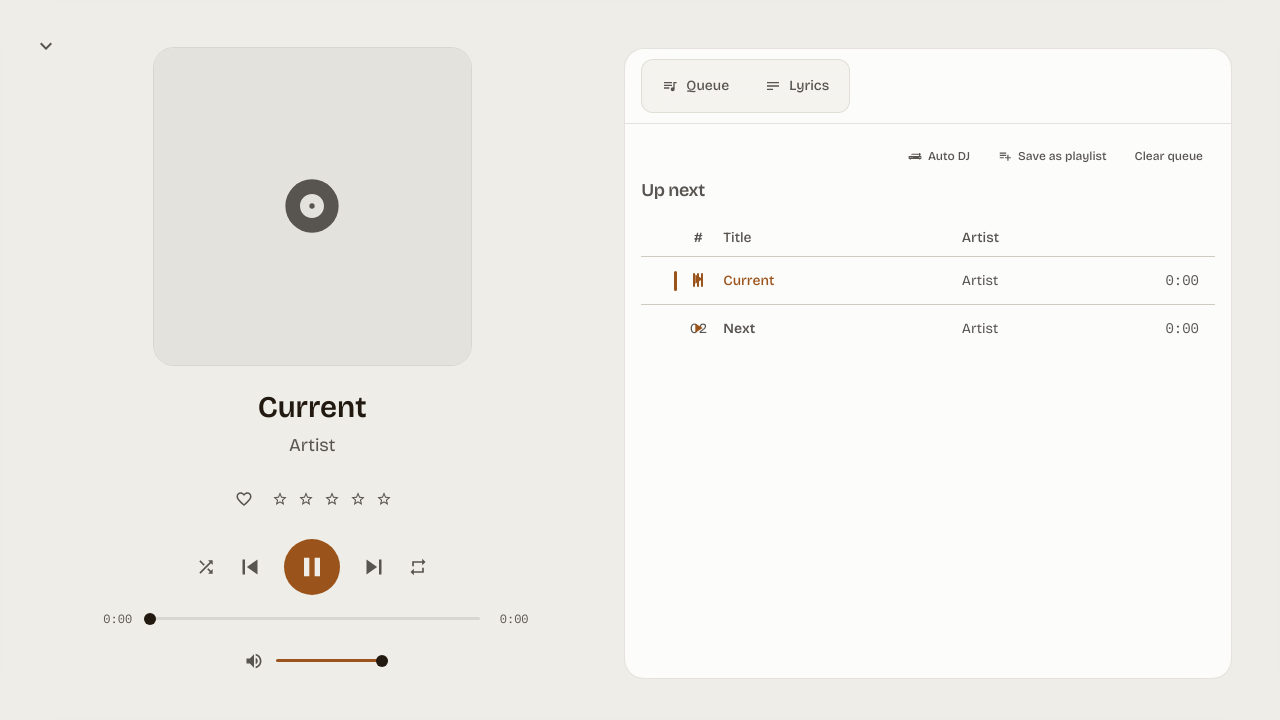
Scenario: NowPlaying › does not close when a queue context menu is open and Escape is pressed
The width and height of the screenshot is (1280, 720).
// QueuePanel is lazy (audit F19): the queue tab chunk resolves after open.
Right-click the text "Next": (739,329) [723,319,755,339]
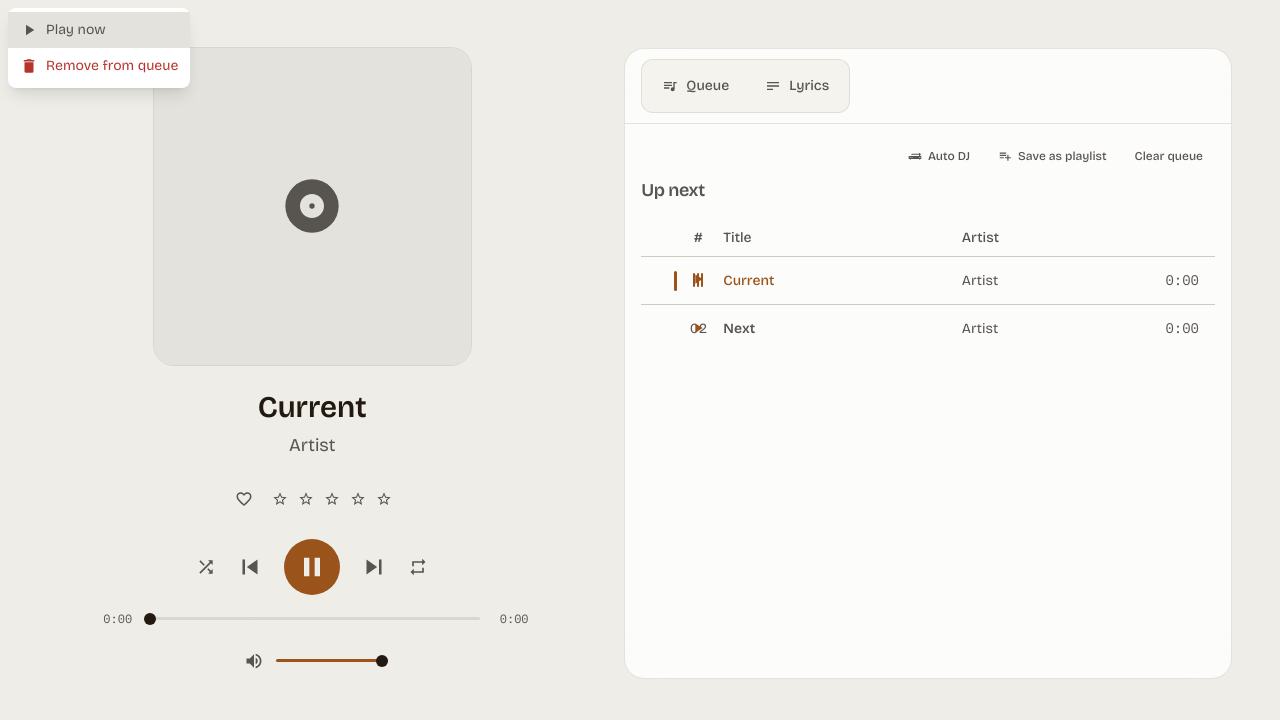
Expected: the menu is shown, [8,8,190,88]
Press Escape
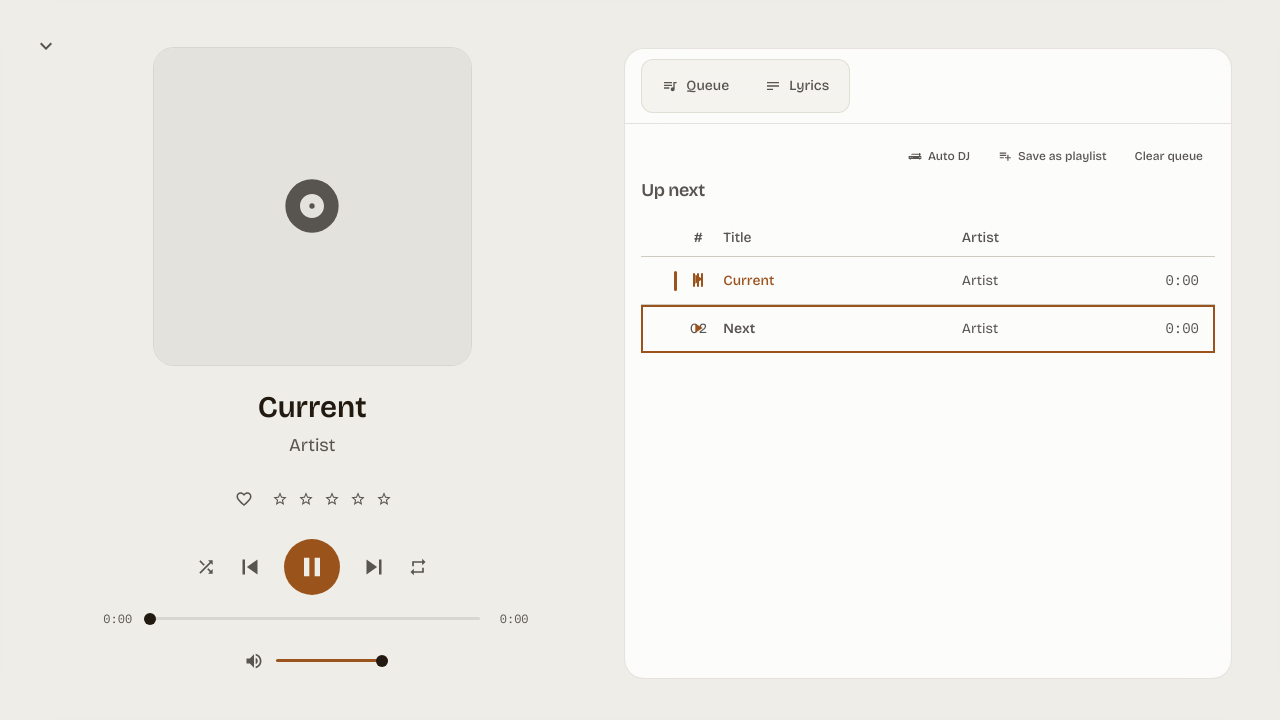
Expected: the menu is gone
